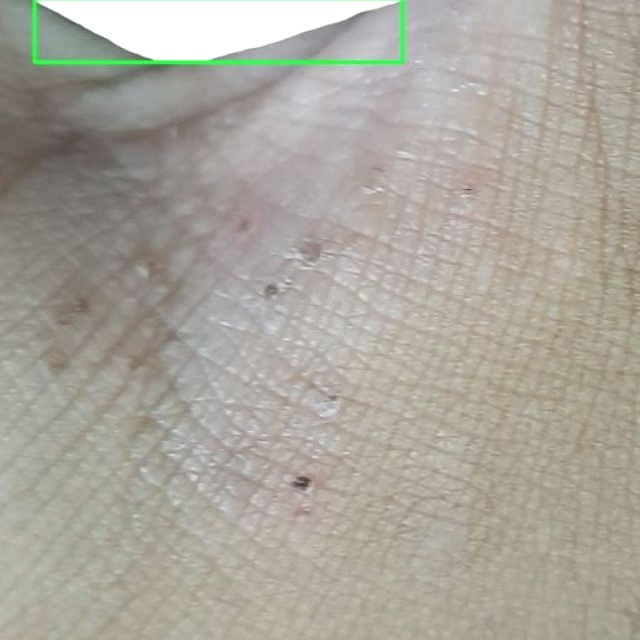Scabies: (34, 0, 402, 62)
